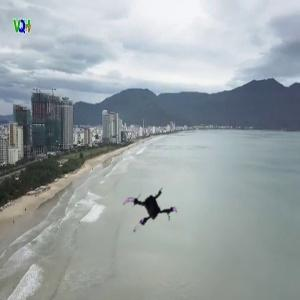drone: (123, 180, 183, 240)
